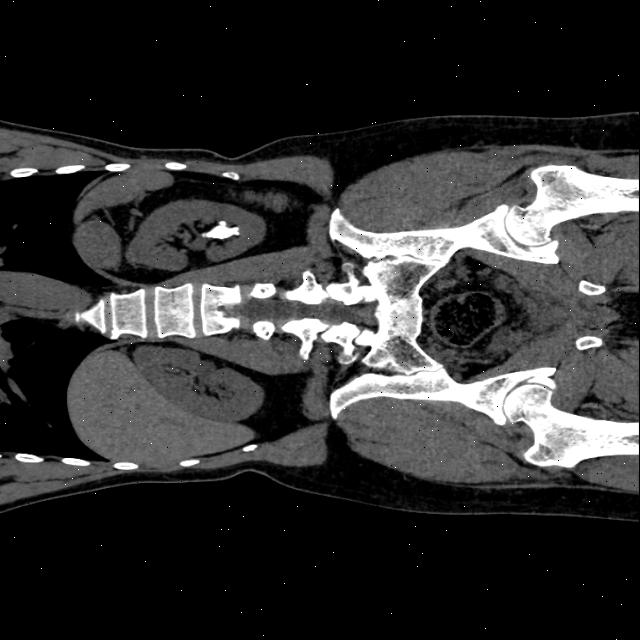kidneystone: (201, 220, 239, 239)
